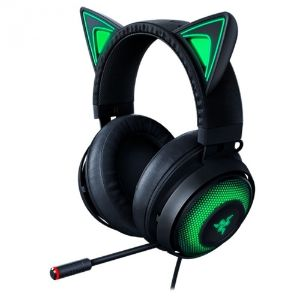headset: (44, 4, 260, 284)
